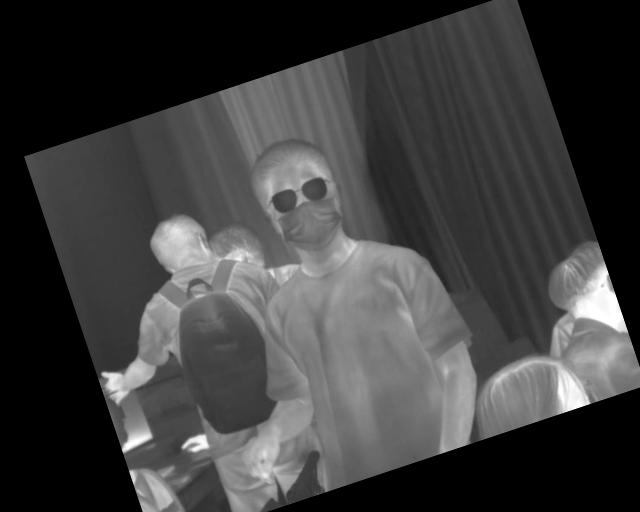face: (240, 128, 355, 265)
